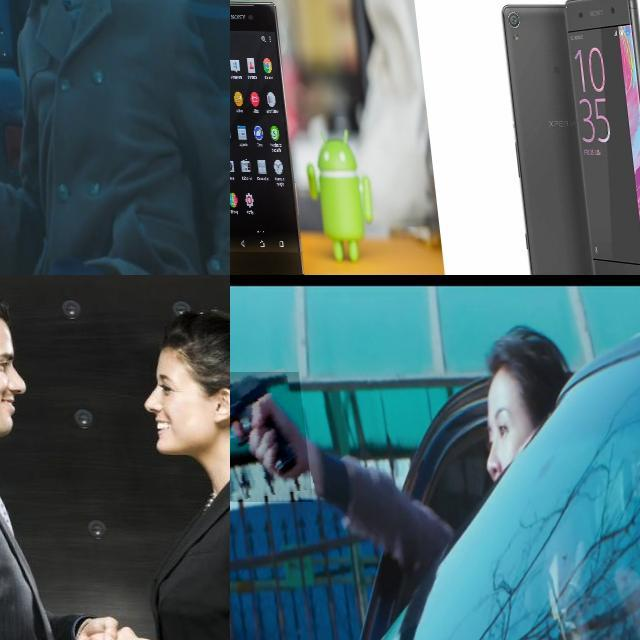-: (0, 521, 51, 640)
gun-knife-thesis - v11 Yolov5 augmented: (230, 372, 306, 502), (0, 100, 43, 236)
